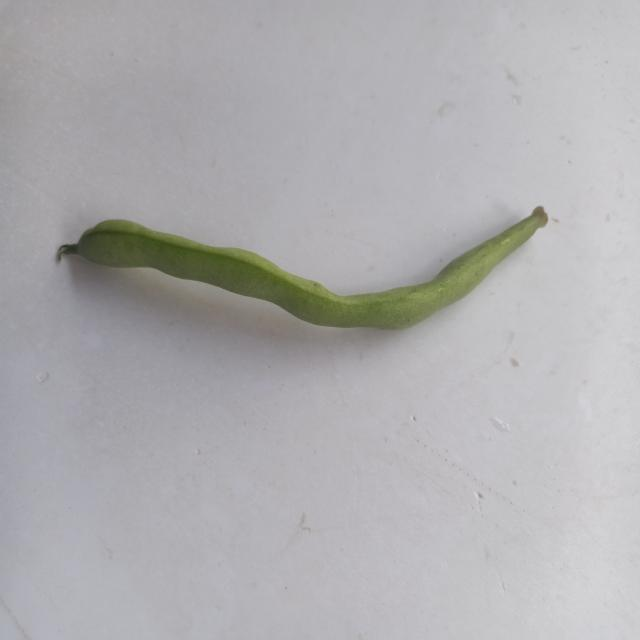Tomato: (42, 165, 203, 276)
